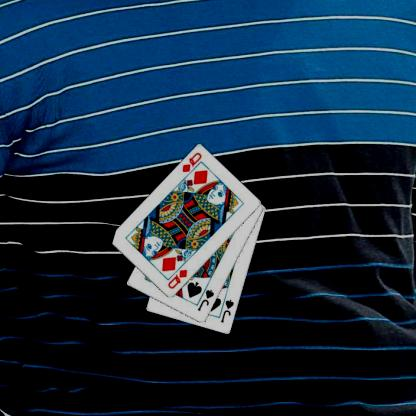JS: (195, 287, 215, 313), (218, 297, 235, 324)
QD: (165, 267, 188, 290), (180, 150, 202, 174)
